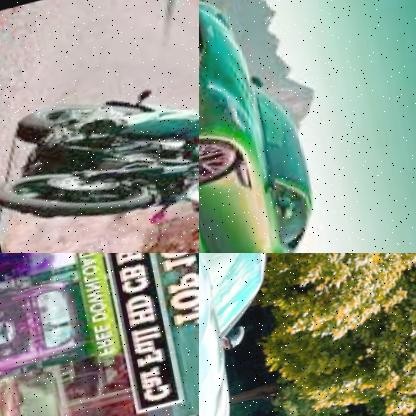bike: (0, 58, 199, 253)
car: (199, 0, 328, 253), (199, 253, 306, 416), (0, 260, 96, 387), (0, 362, 74, 416)
